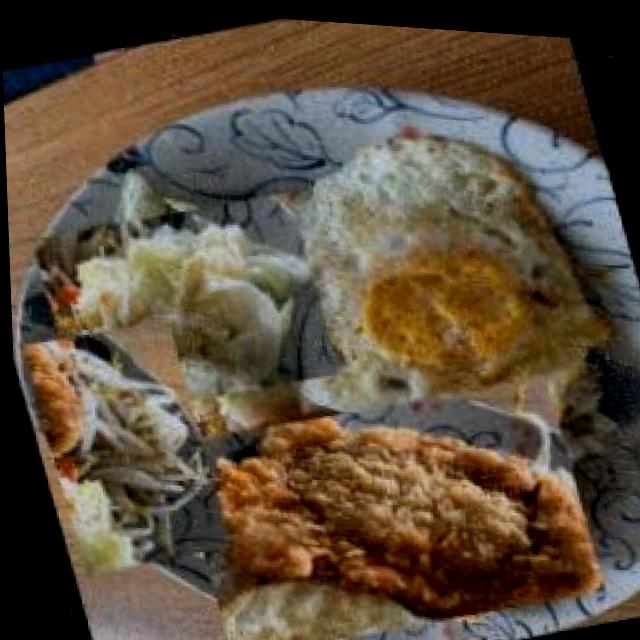chinese_cabbage: (43, 160, 326, 449)
fried_chicken: (162, 345, 604, 640)
fried_eggs: (190, 90, 640, 503)
mung_bean_sprouts: (19, 309, 232, 582)
